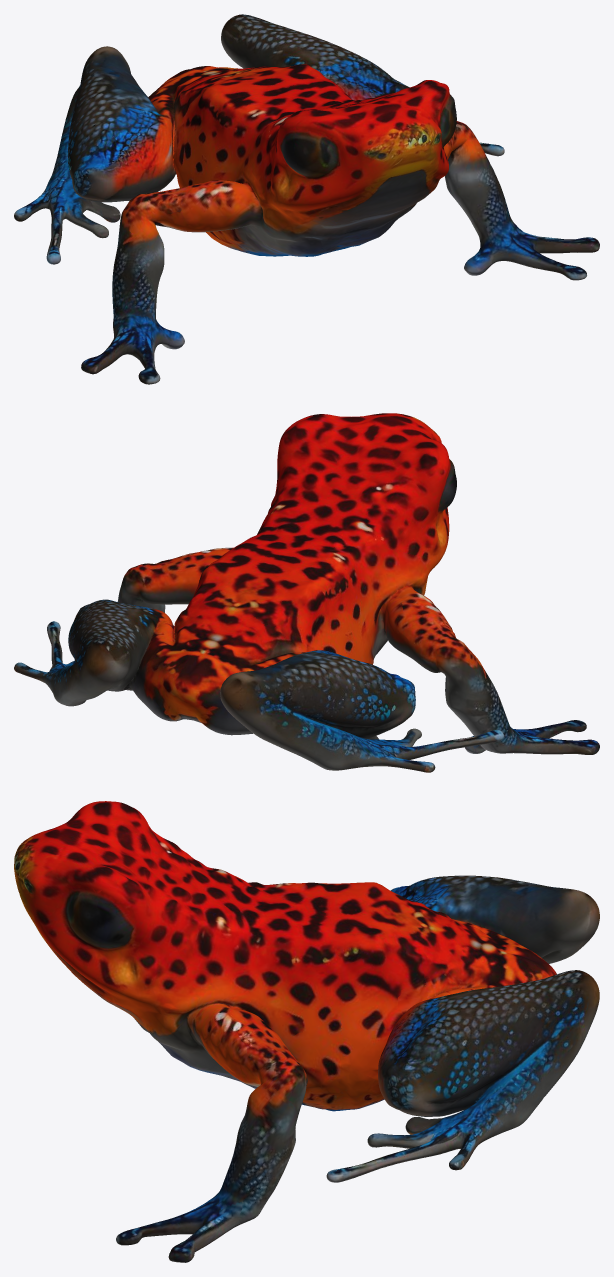
The model's file is oophaga-pumilio.glb.
The picture shows the model from 3 angles, top to bottom: view 1: azimuth 30°, elevation 25°; view 2: azimuth 150°, elevation 25°; view 3: azimuth 270°, elevation 25°; orthographic projection. The views are drawn at different scales.
Parts seen in each view (by area): view 1: tripo_node_296044e3-0440-4842-8116-6f98019a8e5f; view 2: tripo_node_296044e3-0440-4842-8116-6f98019a8e5f; view 3: tripo_node_296044e3-0440-4842-8116-6f98019a8e5f.
Boxes of the visible parts, left/top/right/bottom form: tripo_node_296044e3-0440-4842-8116-6f98019a8e5f: left=14, top=14, right=599, bottom=384; tripo_node_296044e3-0440-4842-8116-6f98019a8e5f: left=14, top=413, right=599, bottom=772; tripo_node_296044e3-0440-4842-8116-6f98019a8e5f: left=14, top=801, right=599, bottom=1262.
Size of the model in its own units: 1 by 0.4626 by 0.8322.
1 material, 1 textured.
